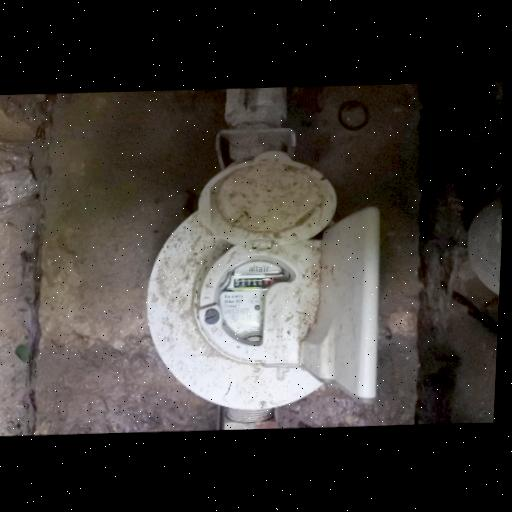1: (245, 277, 252, 286), (268, 276, 273, 286)
4: (251, 277, 258, 286)
5: (234, 276, 241, 285), (264, 277, 269, 288)
6: (256, 277, 263, 286)
7: (241, 277, 246, 286)
border_water_meter_number: (231, 273, 282, 290)
